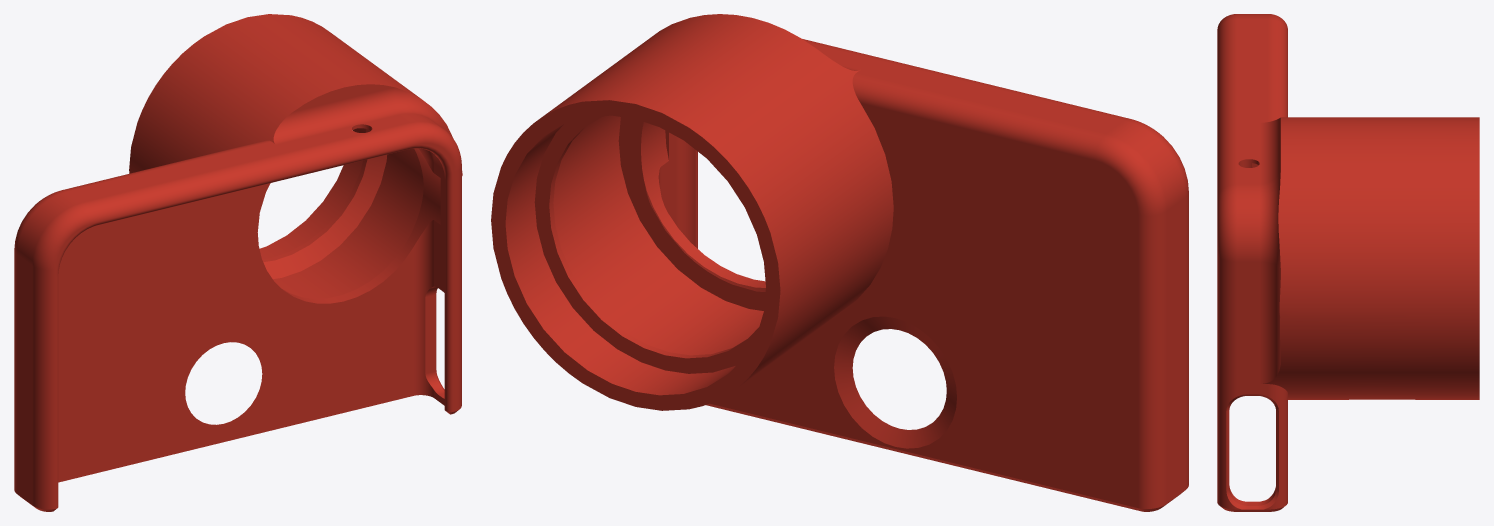
The model's file is Pixel3_to_10x20_Eyepiece.fbx.
3 views of the same model, side by side, from view 1: azimuth 30°, elevation 25°; view 2: azimuth 150°, elevation 25°; view 3: azimuth 270°, elevation 25° (orthographic). The views are drawn at different scales.
Visible parts, largest first — view 1: 10x20adapt; view 2: 10x20adapt; view 3: 10x20adapt.
Boxes of the visible parts, x1,y1,x2,y2 form: 10x20adapt: [14, 14, 462, 511]; 10x20adapt: [491, 14, 1188, 511]; 10x20adapt: [1217, 14, 1479, 511].
Size of the model in its own units: 76.14 by 52.47 by 37.1.
